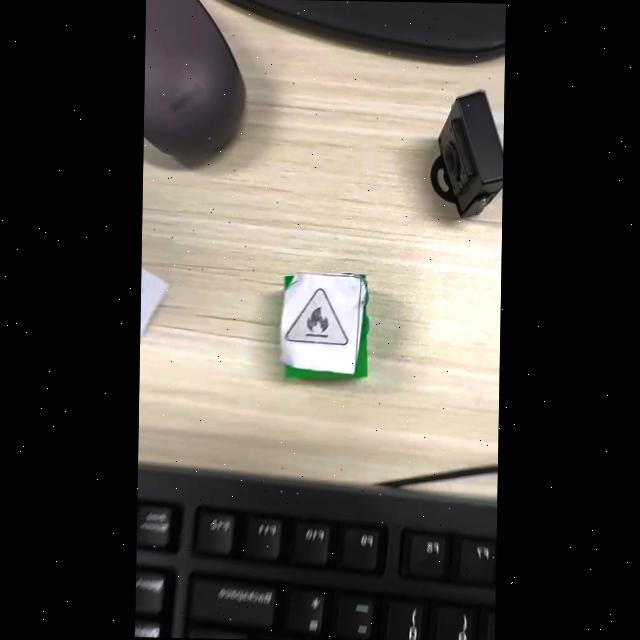Fire: (285, 288, 347, 344)
